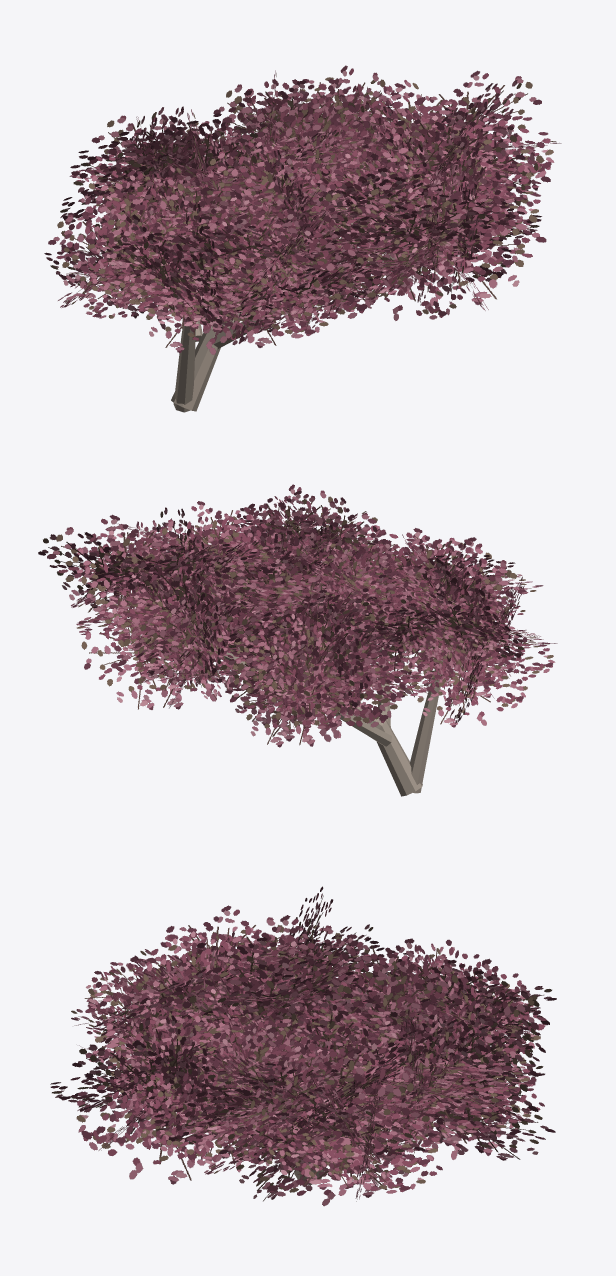
The model's file is bunga_taman_merah.glb.
The picture shows the model from 3 angles, top to bottom: view 1: azimuth 30°, elevation 25°; view 2: azimuth 150°, elevation 25°; view 3: azimuth 270°, elevation 25°; orthographic projection. The views are drawn at different scales.
Visible parts, largest first — view 1: Daun_Loropetalum_Merah, Batang_Kayu_Bunga_Merah; view 2: Daun_Loropetalum_Merah, Batang_Kayu_Bunga_Merah; view 3: Daun_Loropetalum_Merah.
Boxes of the visible parts, box(x1,y1,x2,y2) form: Daun_Loropetalum_Merah: box(44, 65, 561, 354); Batang_Kayu_Bunga_Merah: box(171, 157, 395, 412); Daun_Loropetalum_Merah: box(38, 484, 557, 747); Batang_Kayu_Bunga_Merah: box(216, 644, 444, 796); Daun_Loropetalum_Merah: box(50, 886, 556, 1206).
Size of the model in its own units: 1.73 by 0.8052 by 1.42.
2 materials, 1 textured.
